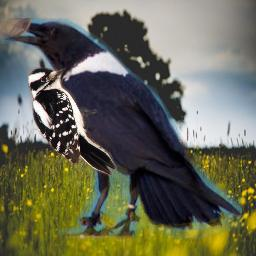Crow: (1, 18, 242, 239)
Woodpecker: (27, 67, 117, 178)
